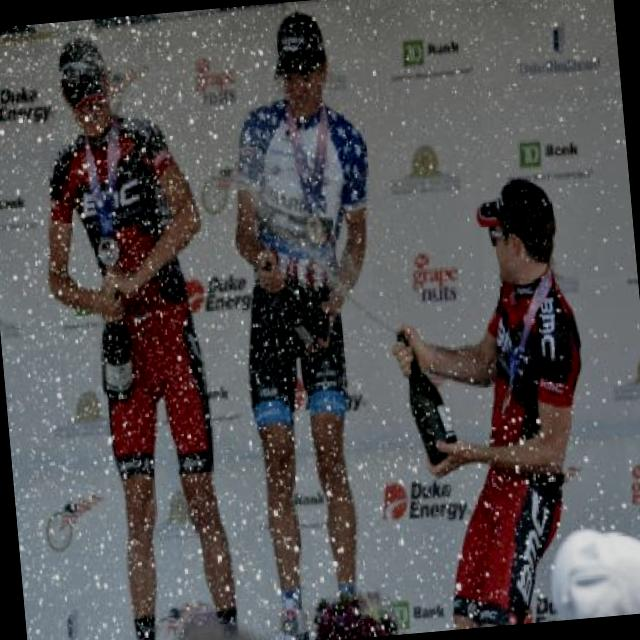Person: (25, 25, 242, 640), (211, 6, 410, 640), (378, 177, 606, 632)
